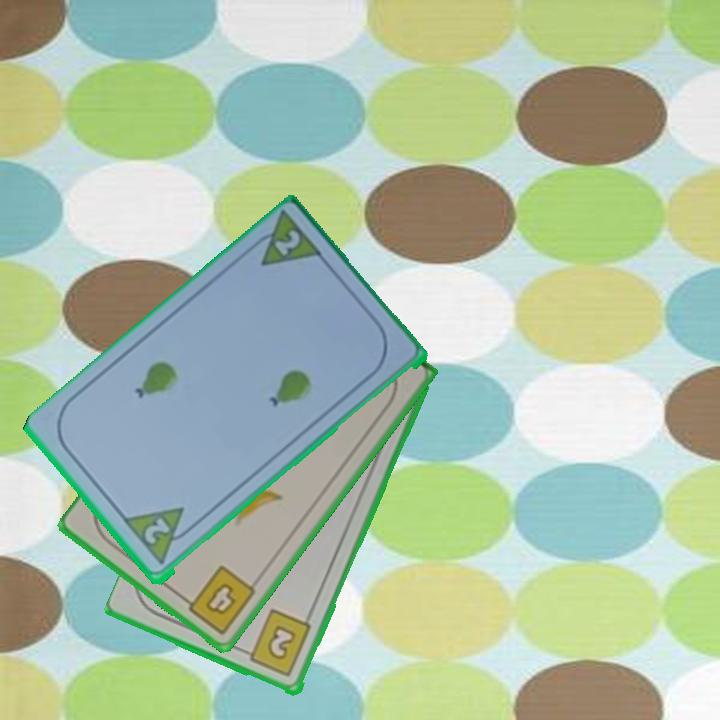2b: (238, 606, 315, 680)
2p: (244, 209, 327, 271), (140, 514, 173, 548)
4b: (177, 562, 259, 638)
